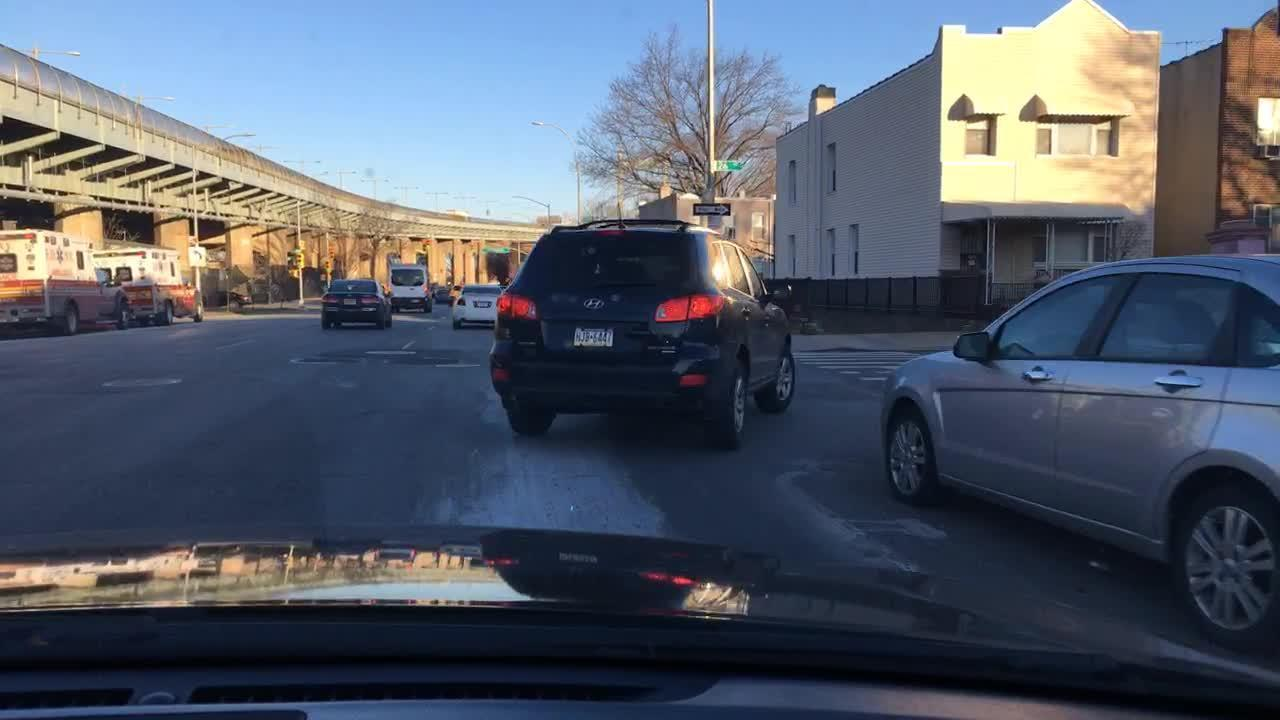Hyundai: (575, 289, 609, 315)
